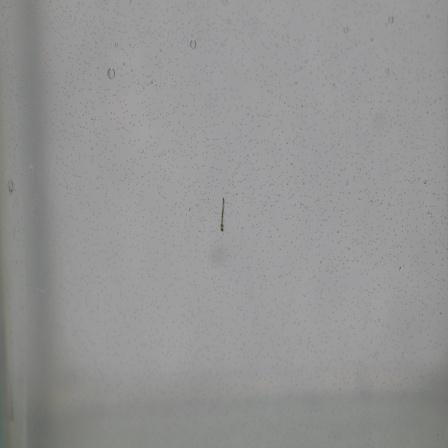Jentik-Nyamuk: (215, 192, 230, 238)
